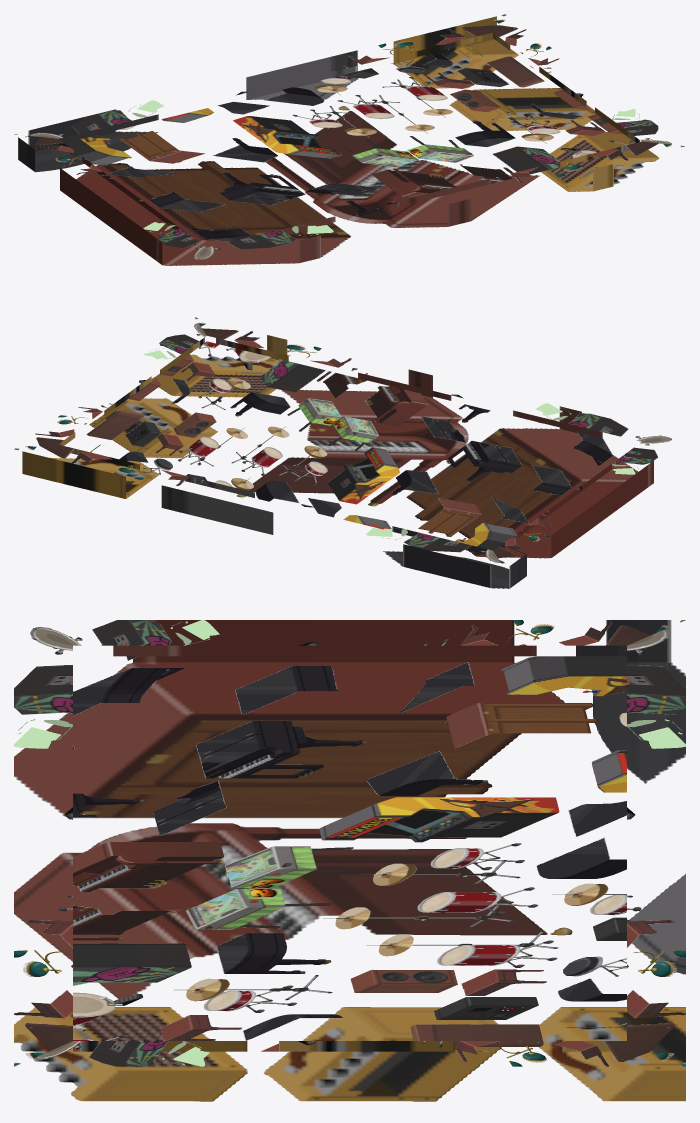
3 renders of one model, top to bottom at view 1: azimuth 30°, elevation 25°; view 2: azimuth 150°, elevation 25°; view 3: azimuth 270°, elevation 25°, orthographic. The views are drawn at different scales.
Bounding box in the file's own units: 0.91 × 0.04 × 0.5786.
